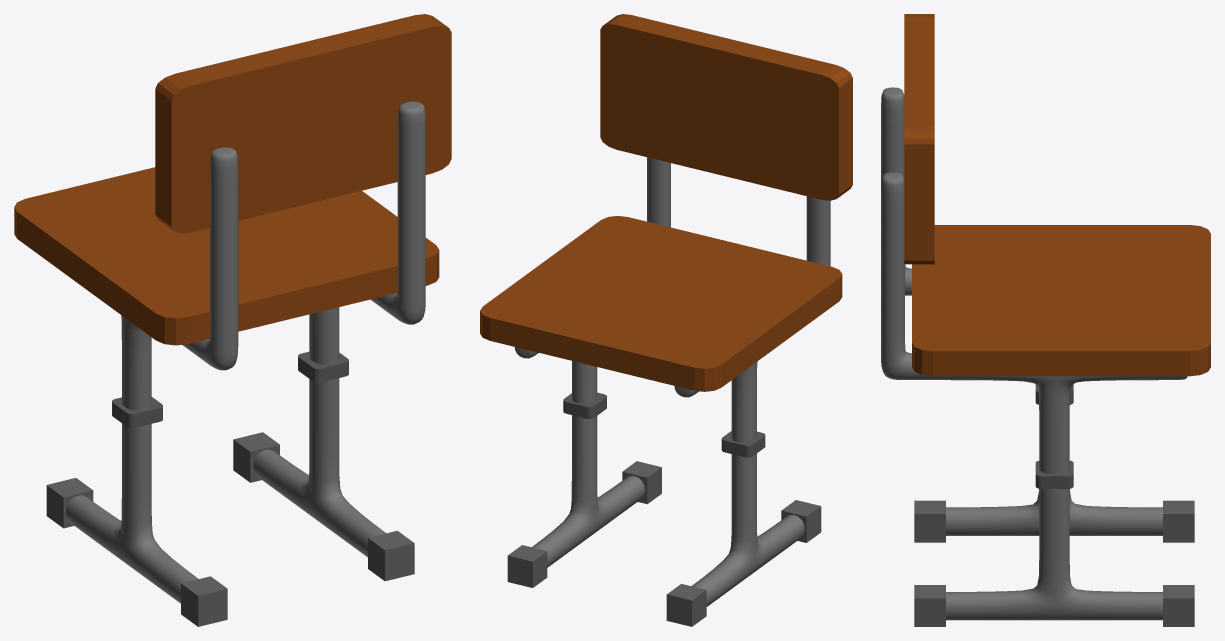
Rendered from chair.fbx.
3 views of the same model, side by side, from view 1: azimuth 30°, elevation 25°; view 2: azimuth 150°, elevation 25°; view 3: azimuth 270°, elevation 25° (orthographic). The views are drawn at different scales.
Visible parts, largest first — view 1: Cube.282; view 2: Cube.282; view 3: Cube.282.
Part boxes in pixels (box(x1,y1,x2,y2)): Cube.282: box(14, 14, 451, 626); Cube.282: box(480, 14, 852, 626); Cube.282: box(881, 14, 1210, 626).
Bounding box in the file's own units: 39.92 × 74.62 × 44.04.
